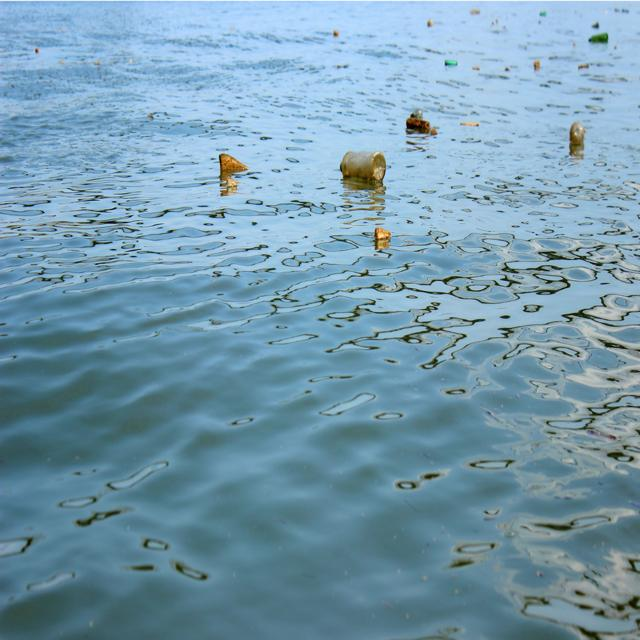bottle: (339, 151, 387, 183), (569, 121, 587, 144)
